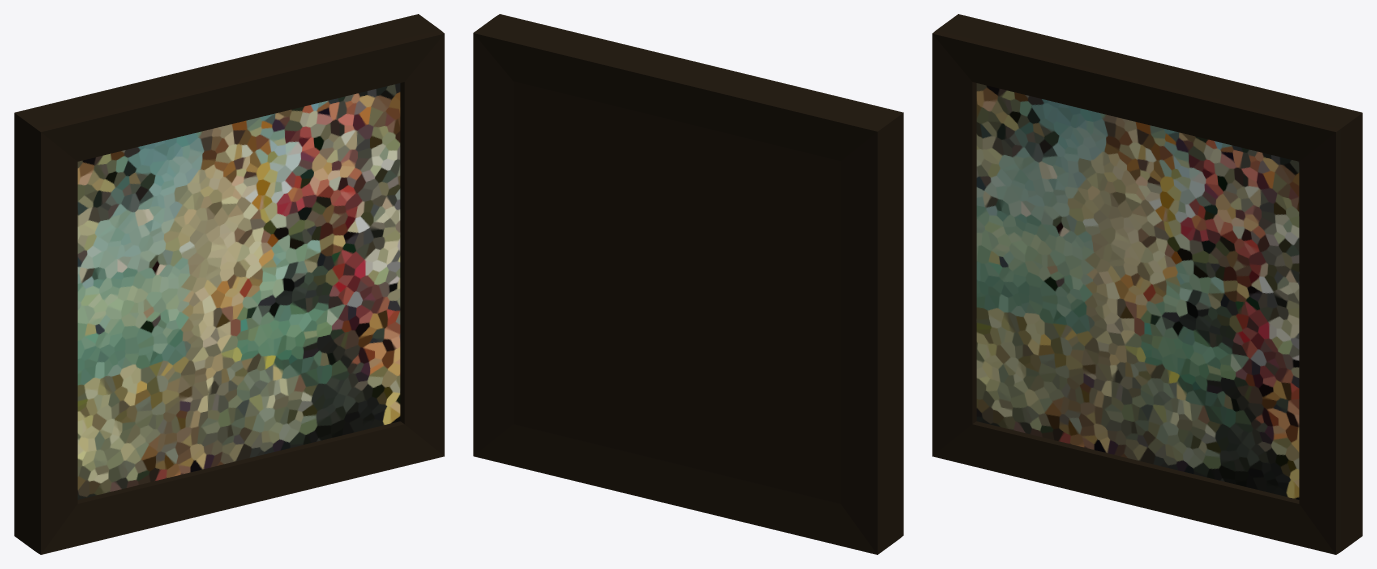
File: painting_8.fbx
The picture shows the model from 3 angles, left to right: view 1: azimuth 30°, elevation 25°; view 2: azimuth 150°, elevation 25°; view 3: azimuth 330°, elevation 25°; orthographic projection.
Parts seen in each view (by area): view 1: painting_6; view 2: painting_6; view 3: painting_6.
Boxes of the visible parts, x1,y1,x2,y2 form: painting_6: (14, 14, 444, 554); painting_6: (473, 14, 903, 554); painting_6: (932, 14, 1362, 554).
Bounding box in the file's own units: 132 × 132 × 14.98.
